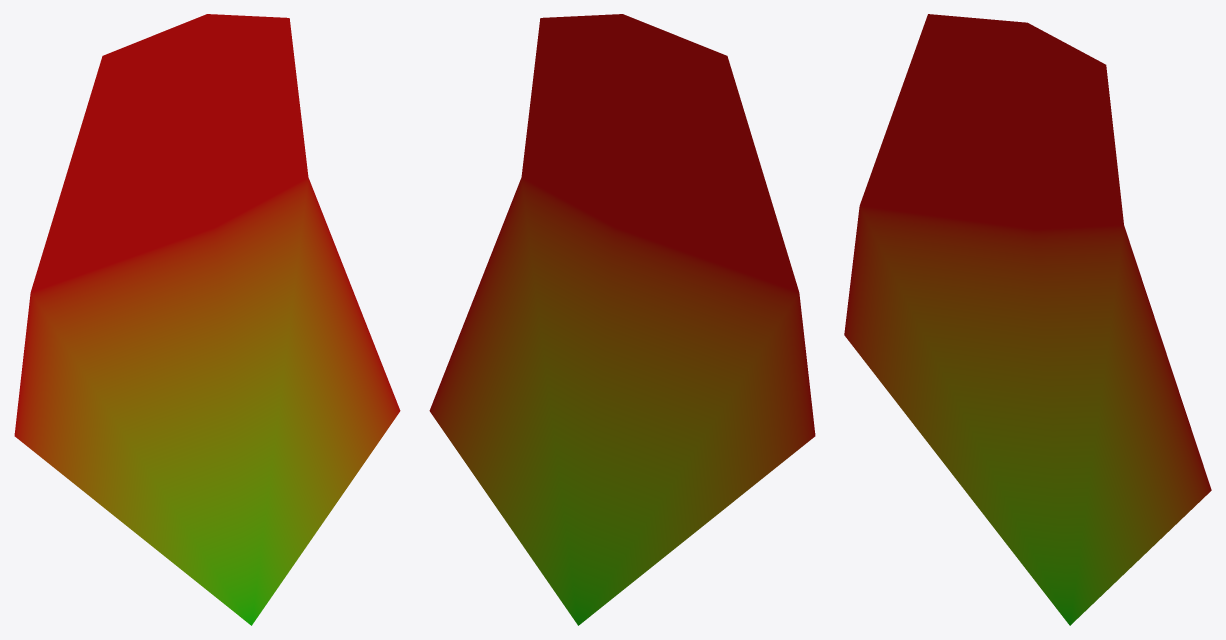
File: Raspberry_LOD4_Var1_wf0oefeja.fbx
The picture shows the model from 3 angles, left to right: view 1: azimuth 30°, elevation 25°; view 2: azimuth 150°, elevation 25°; view 3: azimuth 330°, elevation 25°; orthographic projection. The views are drawn at different scales.
Visible parts, largest first — view 1: _eess_Var1_LOD4; view 2: _eess_Var1_LOD4; view 3: _eess_Var1_LOD4.
Part boxes in pixels (x1,y1,x2,y2): _eess_Var1_LOD4: (14,14,400,625); _eess_Var1_LOD4: (429,14,815,625); _eess_Var1_LOD4: (844,14,1211,625).
Bounding box in the file's own units: 45.08 × 69.51 × 8.29e-06.
